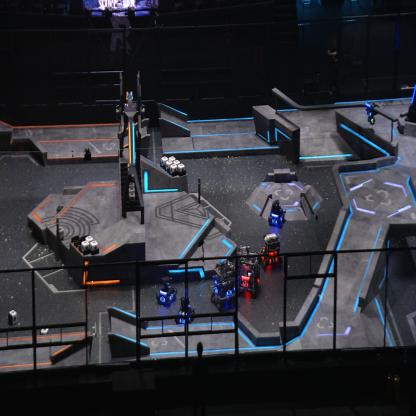car: (208, 260, 238, 309), (234, 244, 260, 296), (258, 232, 282, 269), (155, 275, 177, 306), (174, 296, 194, 327), (268, 197, 286, 227)
